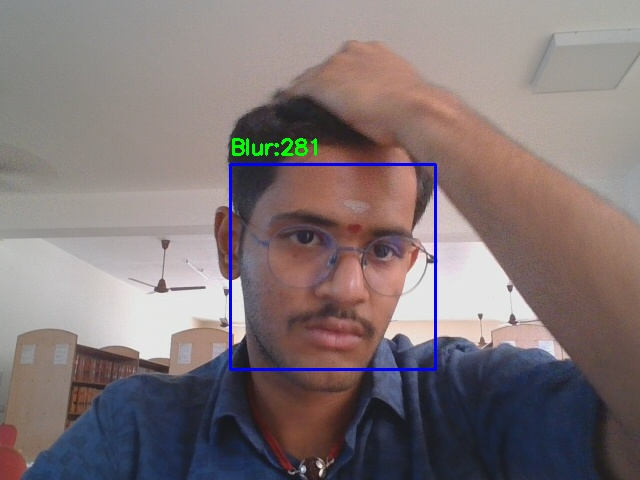real: (230, 164, 435, 369)
